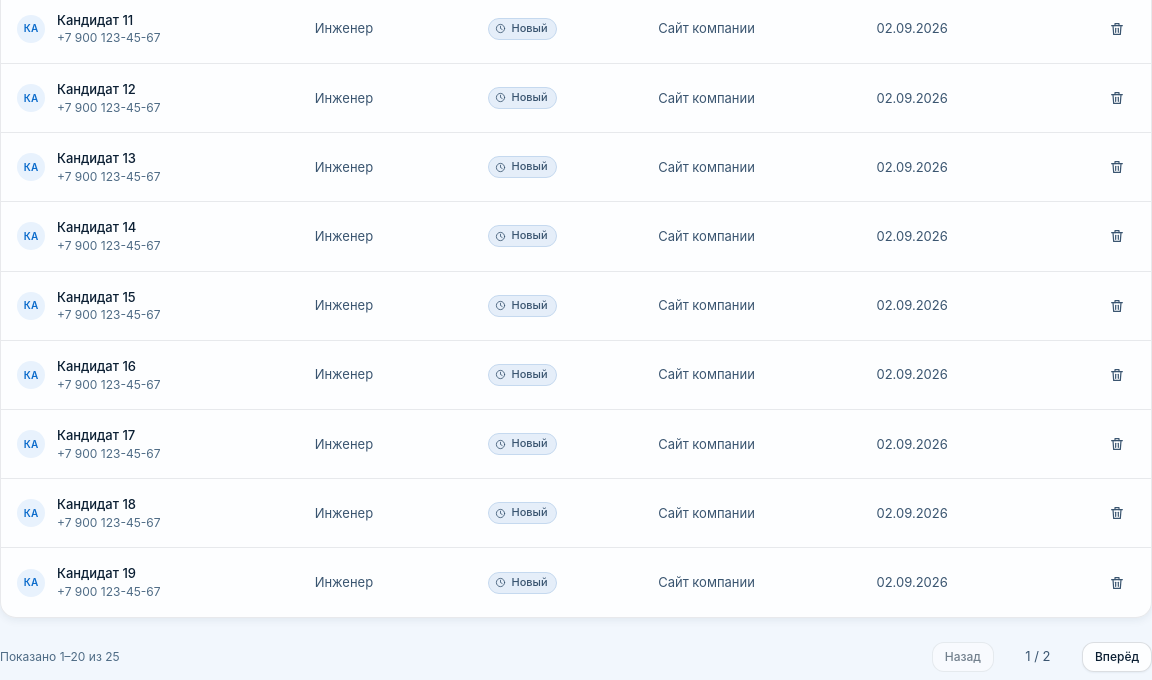
Scenario: CandidatesListPage › paginates server-side with next/prev
This screenshot has width=1152, height=680.
(page scrolled)
Check: the text "Показано 1–20 из 25" is shown, box [0,648,120,665]
Click the button "Вперёд" at [1117, 657], box [1082,642,1151,672]
(page scrolled)
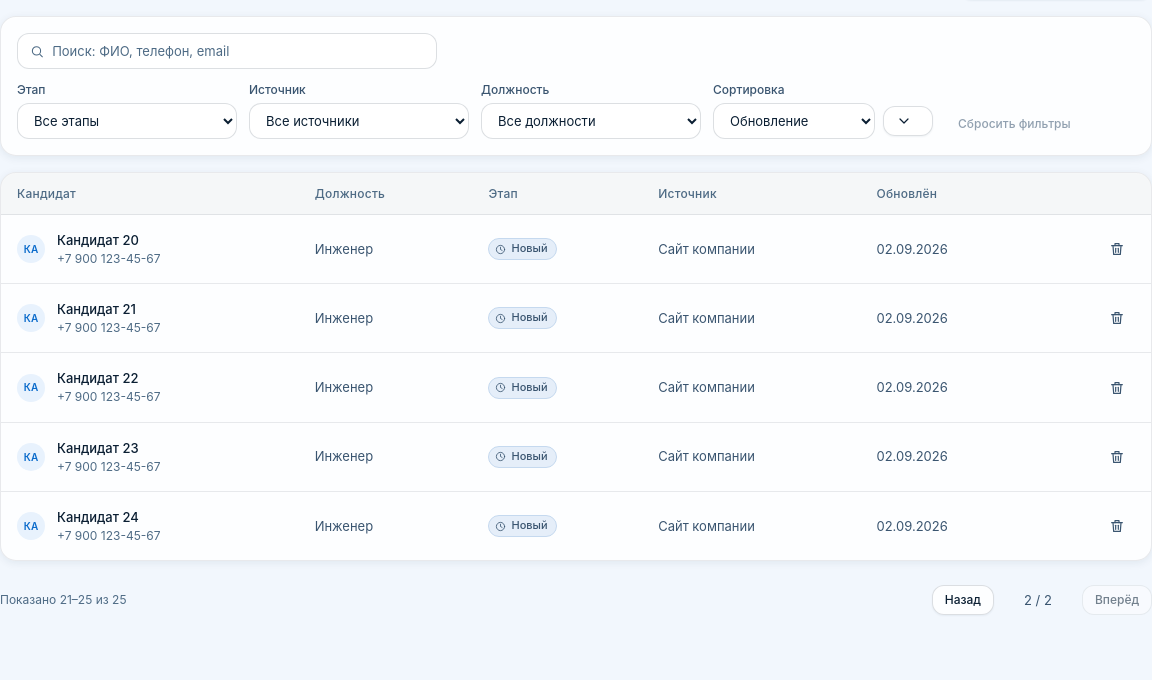
Check: the text "Кандидат 20" is shown, box [57,232,139,248]
Check: the message reads "Показано 21–25 из 25", box [0,592,126,609]
Check: the button "Вперёд" is disabled, box [1082,585,1151,615]
